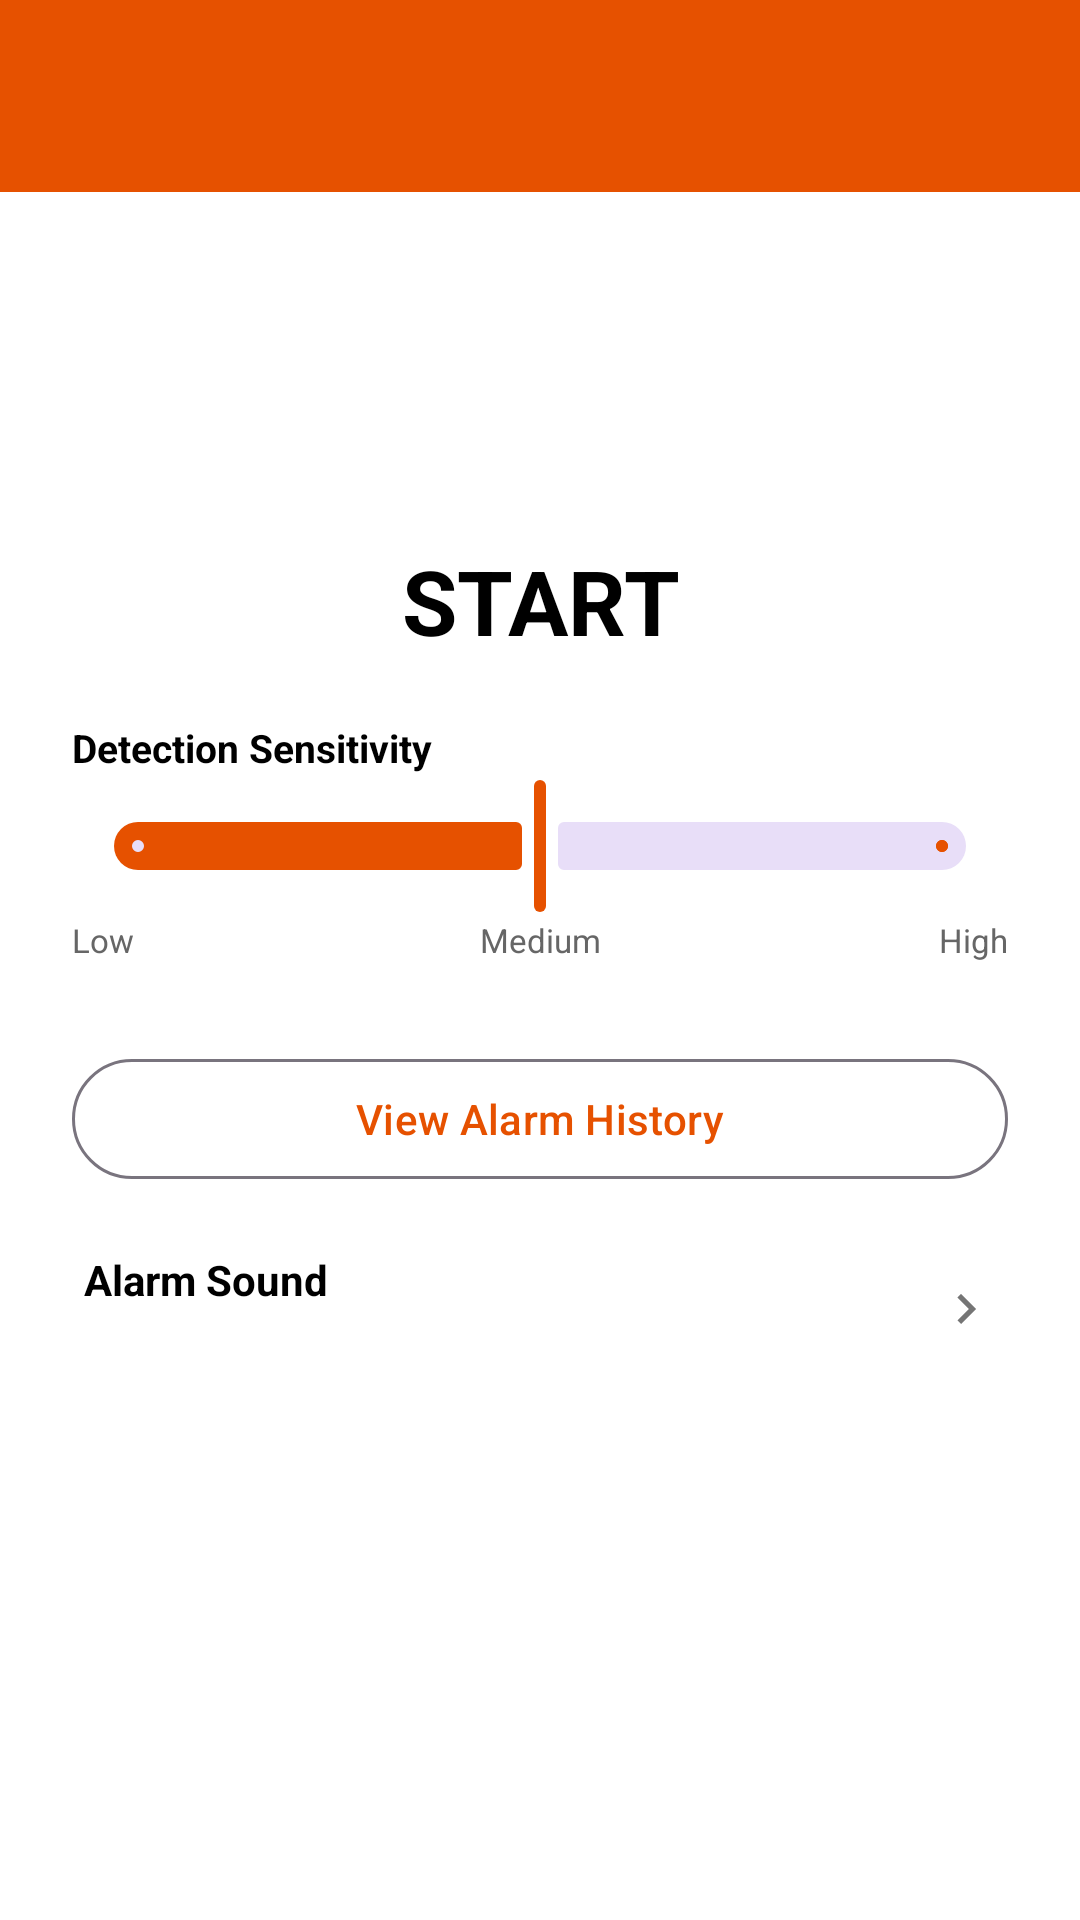

Icon click points for this 1080 x 1920 phone screenshot, format [x,y]:
arrow right: [966,1309]
